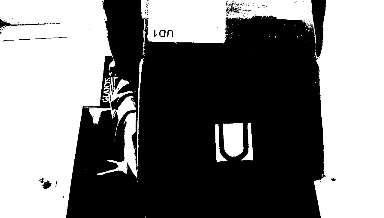U: (214, 124, 251, 159)
